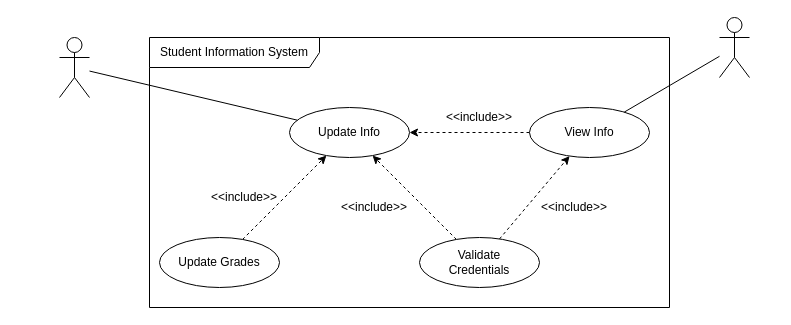
Some shapes in this 791 by 325 pixel diagram are drawn without their labels. The shapes that lost their labels are listed below. From the top down, each one's centre as x and y in pixels, then its label:
At point (74, 67): "Authorized Personnel".
At point (734, 47): "Non-personnel".
